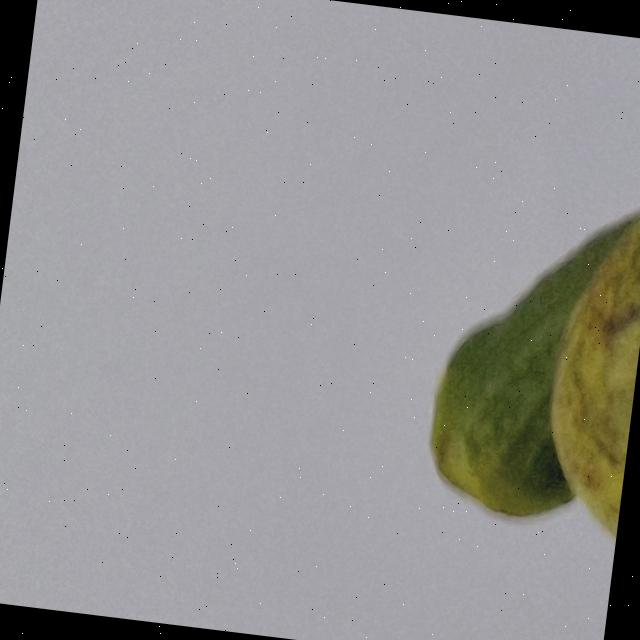mangosteen: (355, 11, 640, 640)
